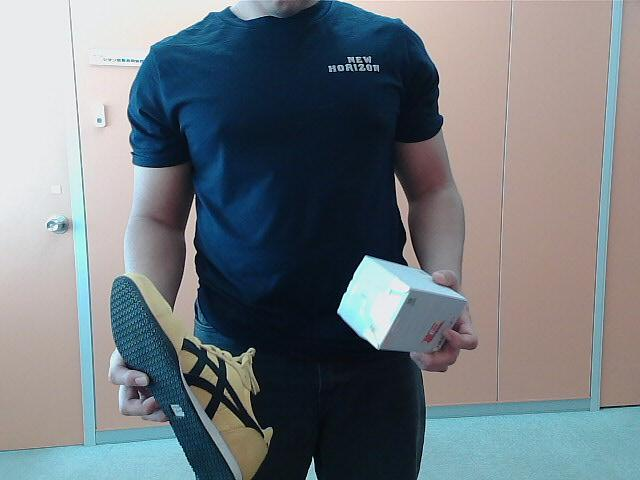Blind_box: (340, 256, 466, 363)
Shoes: (108, 272, 270, 480)
